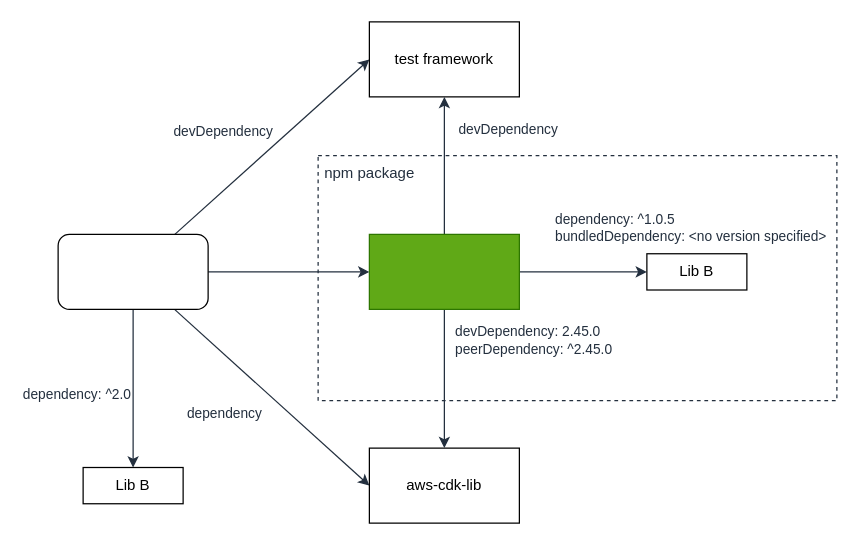
Some shapes in this 859 by 545 pixel diagram are drawn without their labels. The centre of each missing label's shape, as x and y in pixels:
"CDK App" goes at (x=132, y=271).
"CDK Library" goes at (x=443, y=271).
